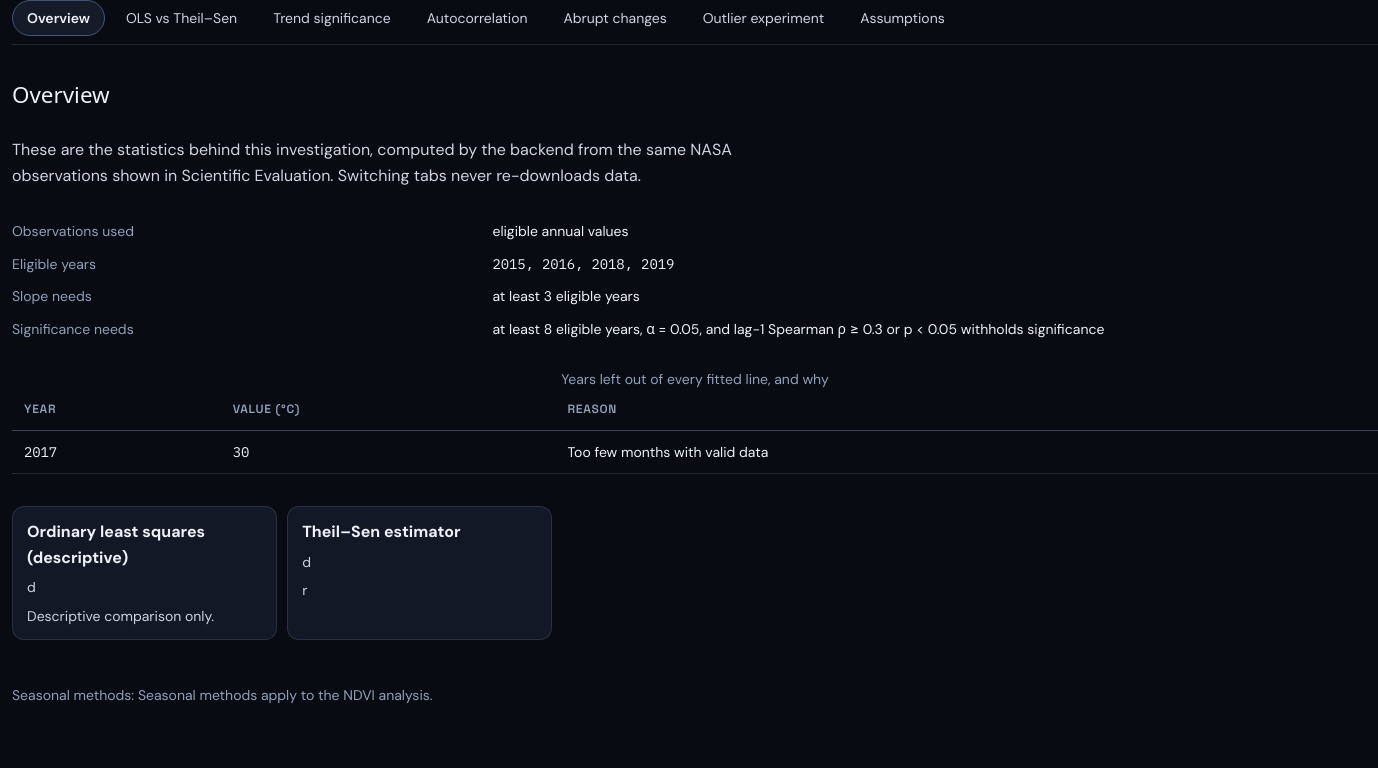
Test: Statistical Methods Lab › compares OLS and Theil–Sen on the same eligible years without OLS significance
Click the tab "OLS vs Theil–Sen" at (182, 18), box [111, 0, 252, 36]
(page scrolled)
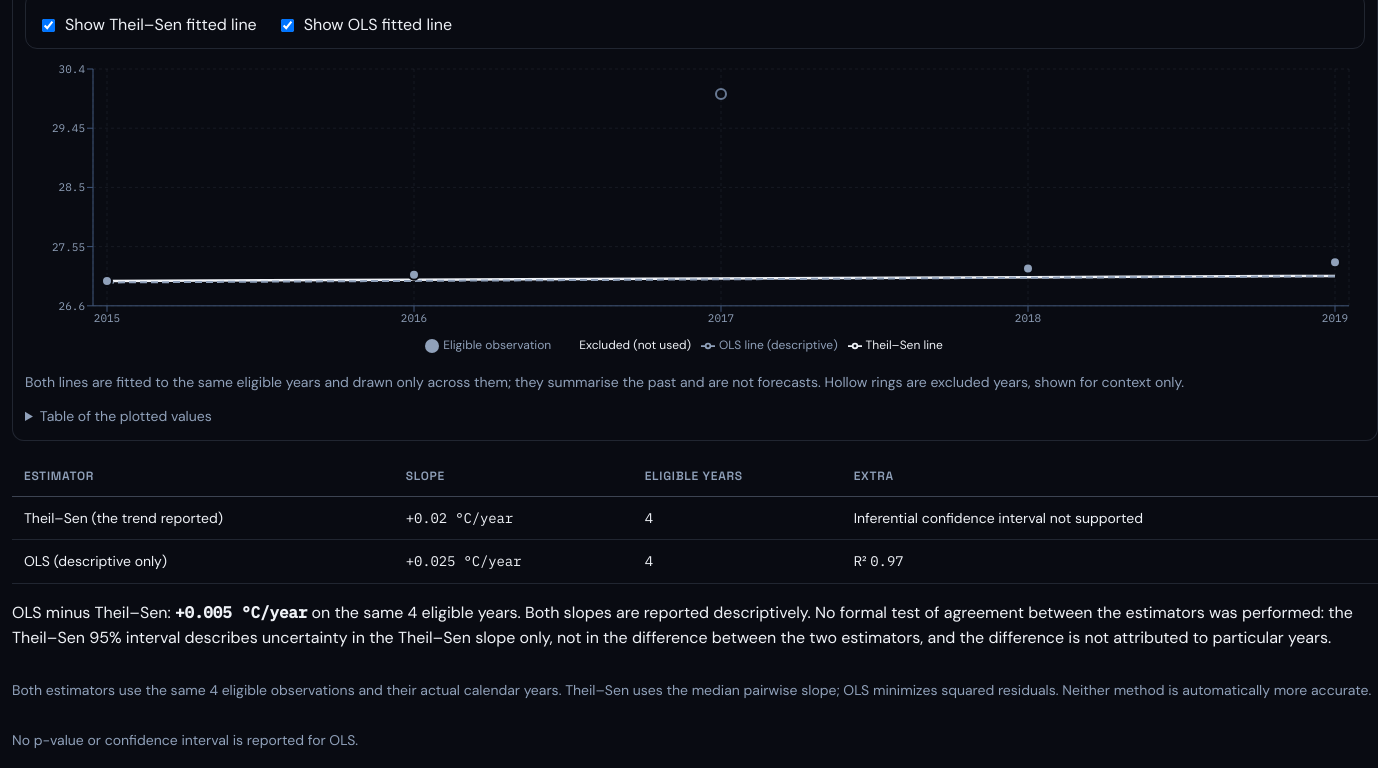
Check: the text "Theil–Sen (the trend reported)" is shown, box [12, 496, 394, 540]
Check: the text "OLS (descriptive only)" is shown, box [12, 540, 394, 583]
Check: the text "Inferential confidence interval not supported" is shown, box [842, 496, 1377, 540]
